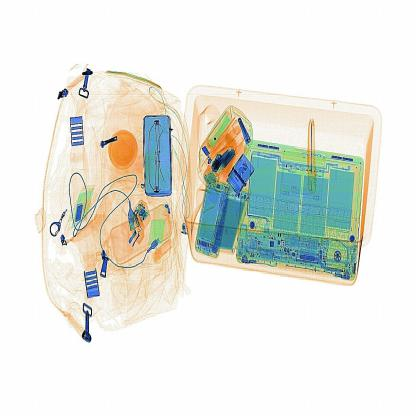pliers: (301, 116, 321, 198)
